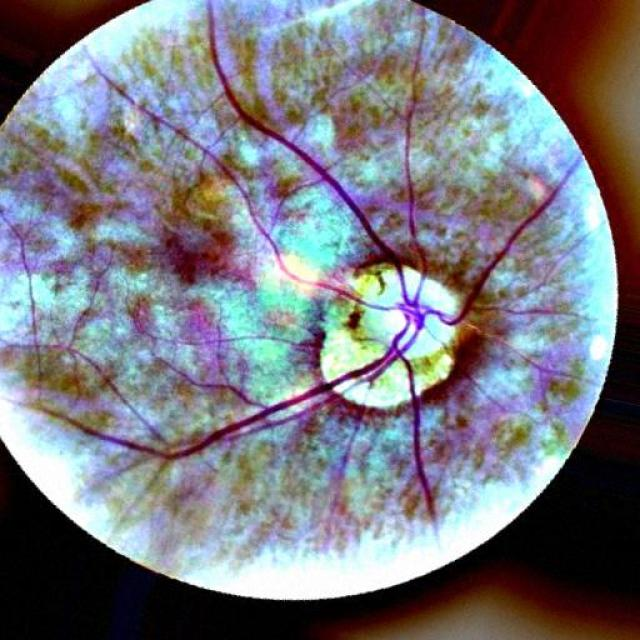Optic Disk: (320, 265, 455, 408)
